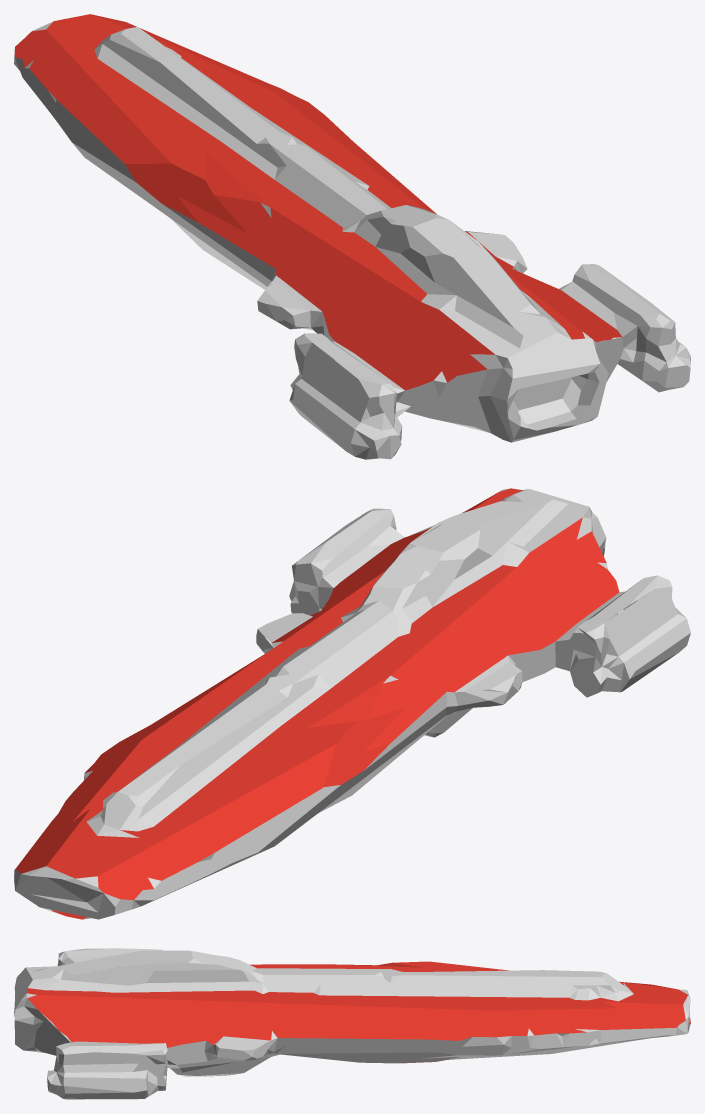
The model's file is bombard_t3.glb.
3 renders of one model, top to bottom at view 1: azimuth 30°, elevation 25°; view 2: azimuth 150°, elevation 25°; view 3: azimuth 270°, elevation 25°, orthographic. The views are drawn at different scales.
Visible parts, largest first — view 1: Spaceship; view 2: Spaceship; view 3: Spaceship.
Boxes of the visible parts, <box> form: Spaceship: <box>14,14,690,459</box>; Spaceship: <box>14,488,690,919</box>; Spaceship: <box>14,948,690,1099</box>.
Bounding box in the file's own units: 113 × 49.85 × 282.
